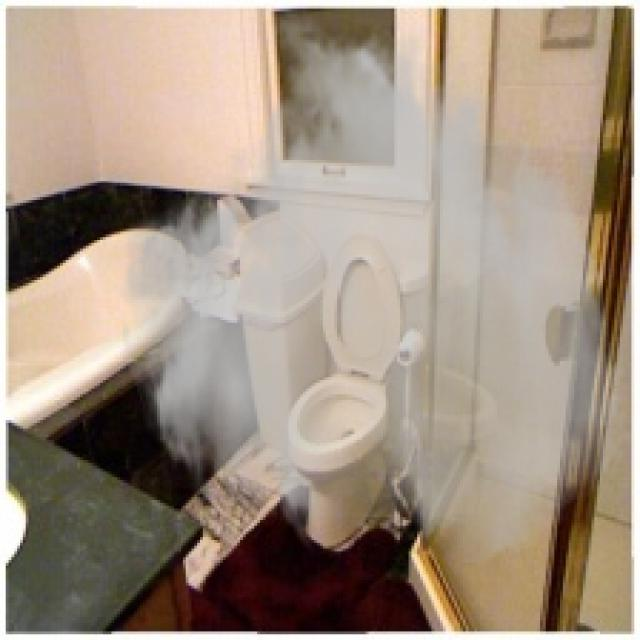smoke: (114, 6, 632, 568)
